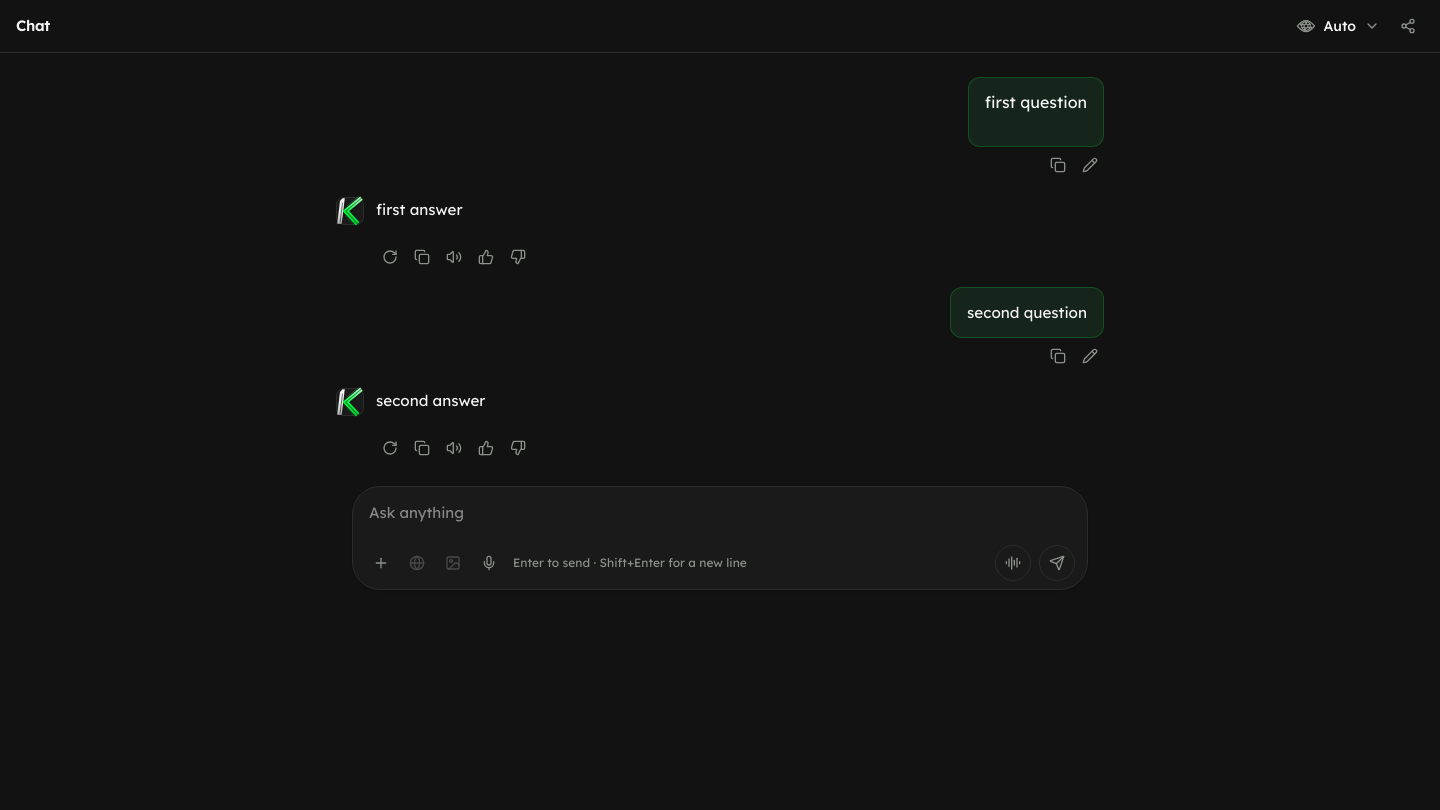
ChatPage message editing › keeps every earlier turn on screen
This screenshot has width=1440, height=810.
Check: the text "first question" is shown, box top-left (985, 92), bottom-right (1087, 112)
Click the button named "Edit message" below "first question": click(1090, 165) top-left (1076, 151), bottom-right (1104, 179)
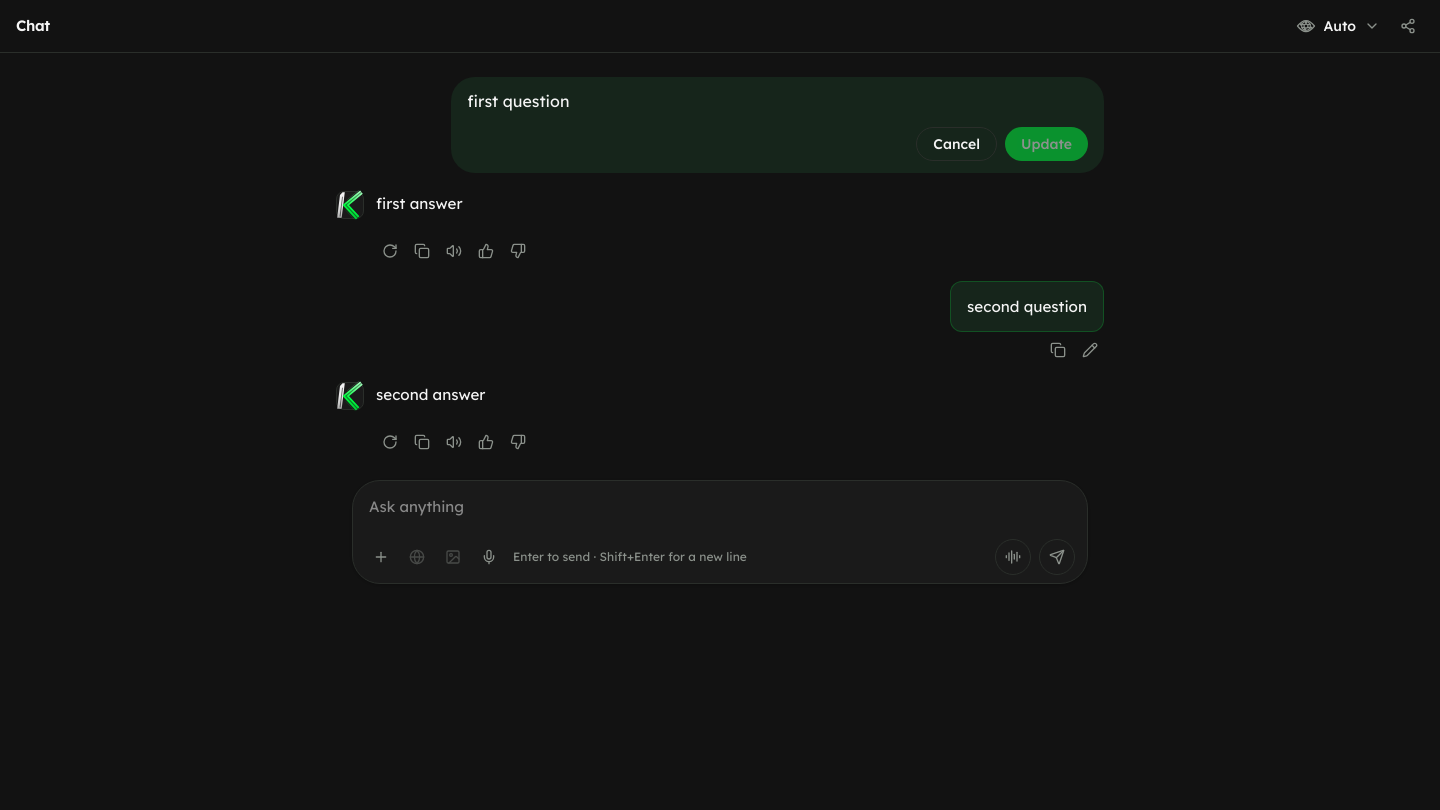
Replace the text in the text box named "Edit your message" with "edited question": (778, 101) top-left (467, 89), bottom-right (1088, 113)
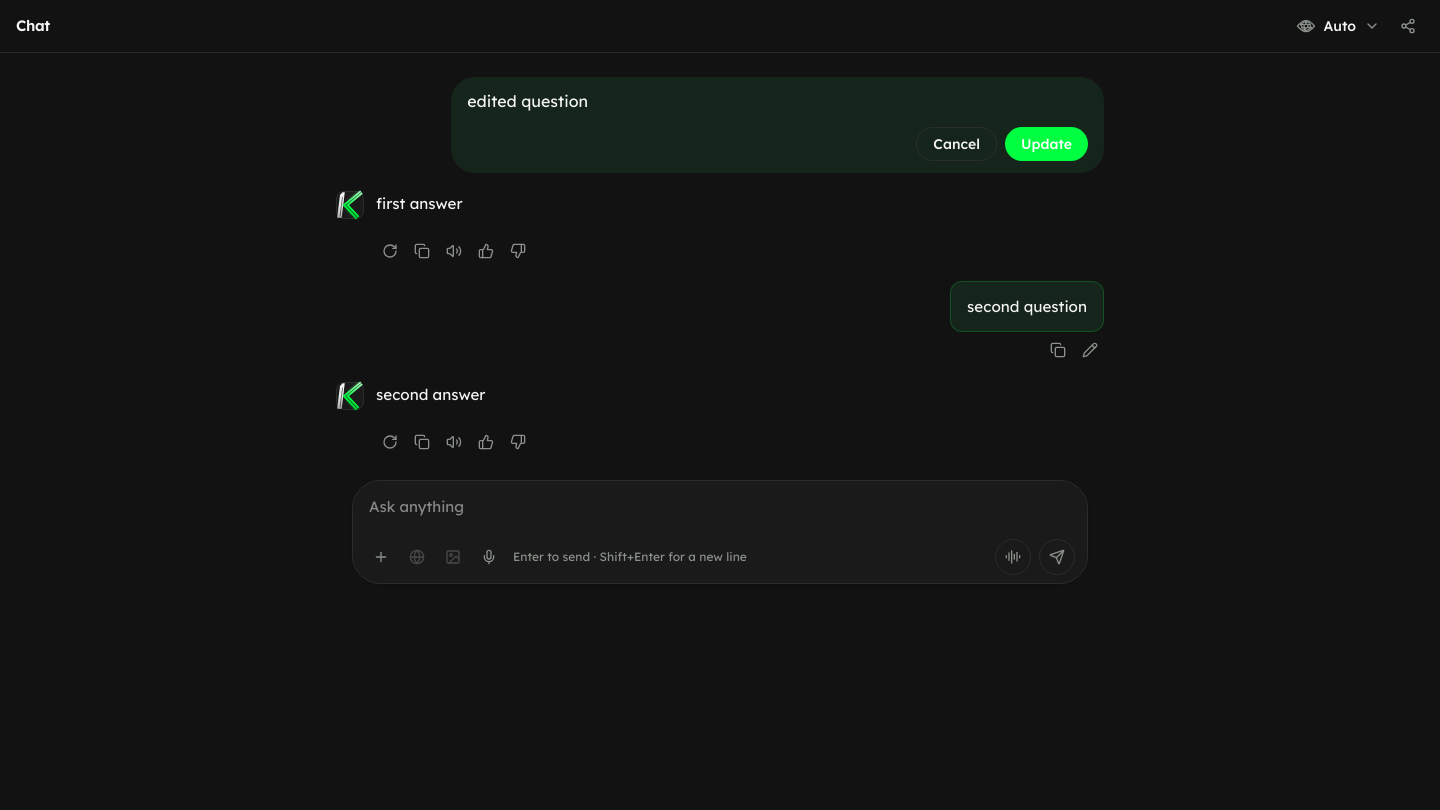
Click the button "Update": click(1046, 144) top-left (1005, 127), bottom-right (1088, 161)
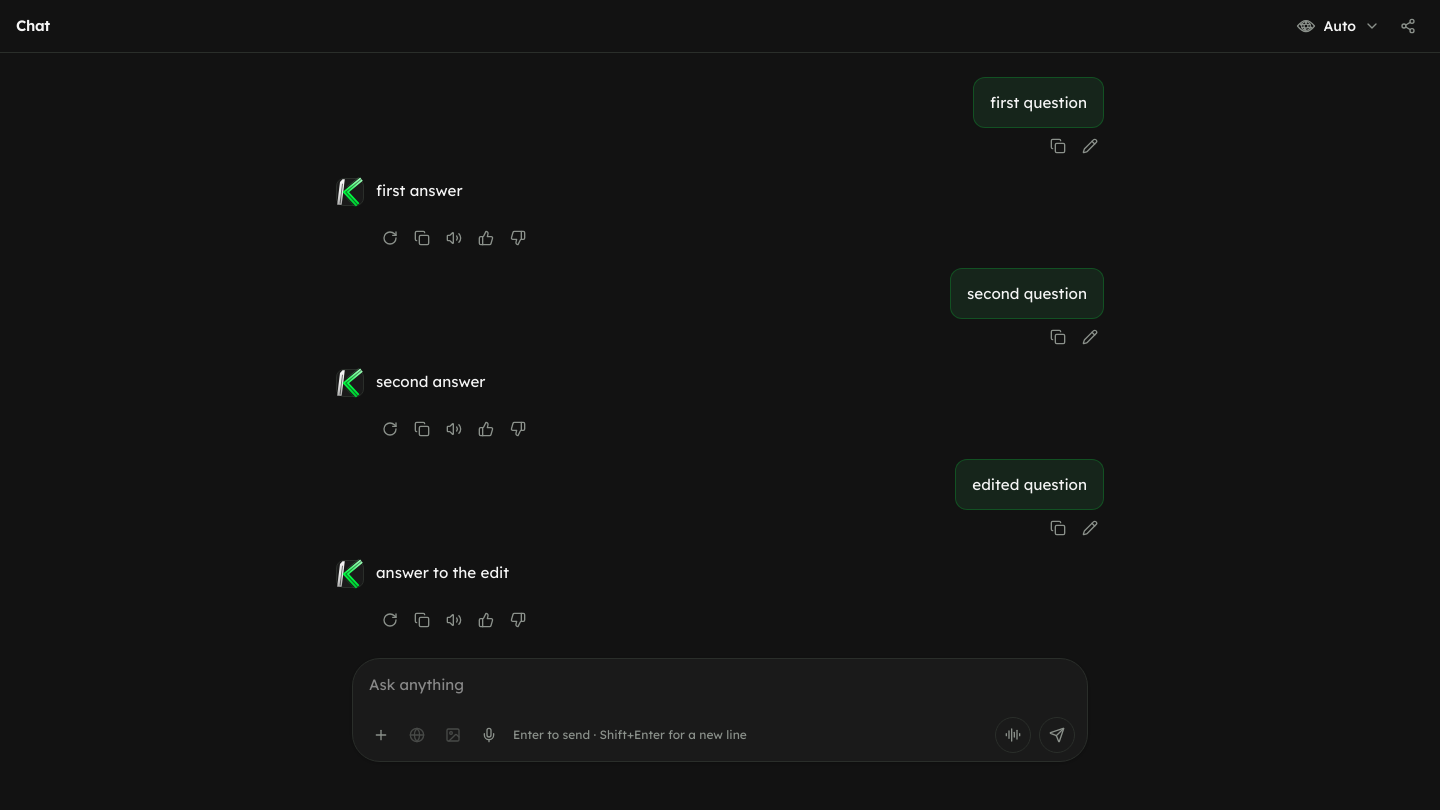
Check: the text "first answer" is shown, box top-left (376, 181), bottom-right (462, 200)
Check: the text "answer to the edit" is shown, box top-left (376, 563), bottom-right (509, 582)
Check: the text "first question" is shown, box top-left (990, 90), bottom-right (1087, 115)
